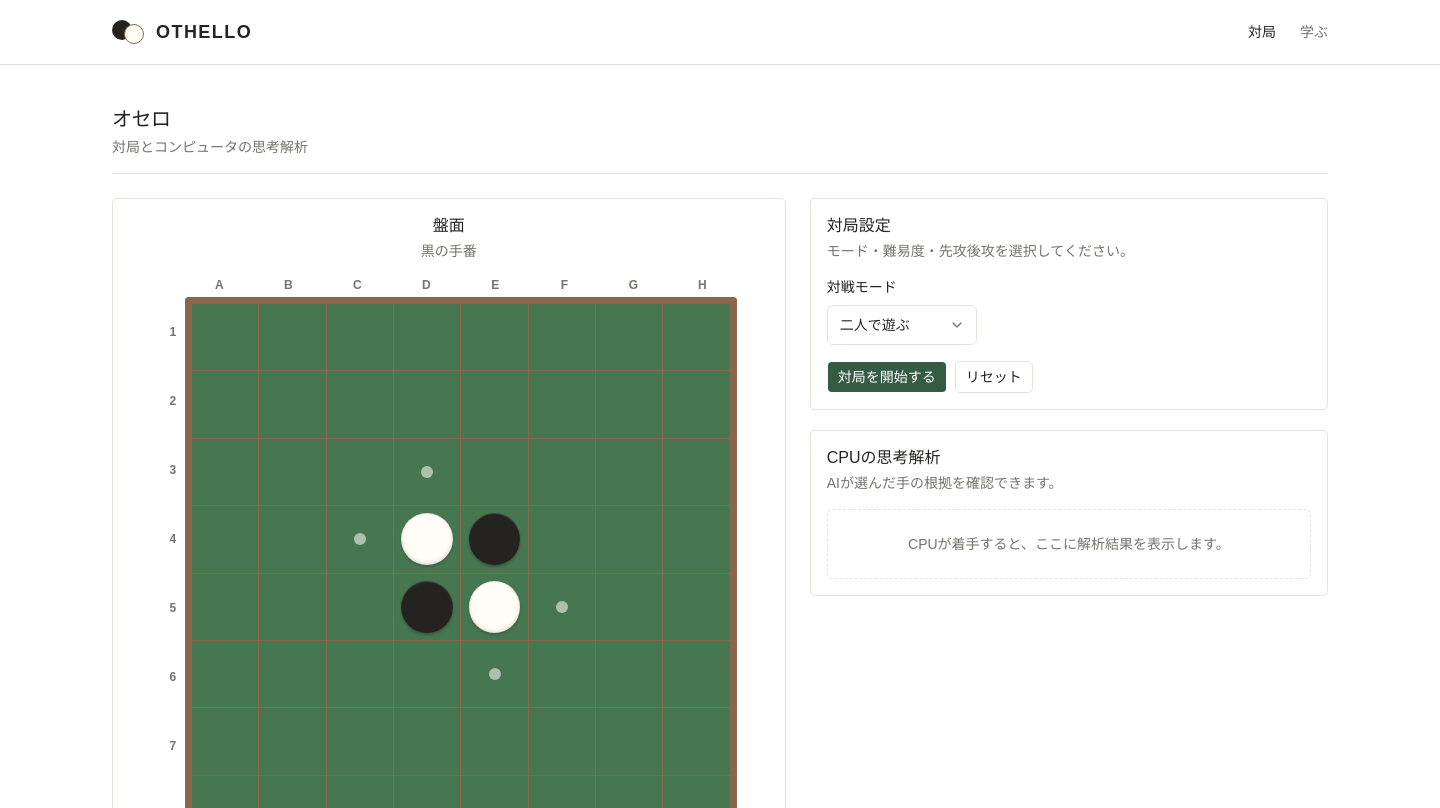
App › 409エラー発生時に細心の対局状態を取得する
Click the button named "3行4列": (427, 472) [394,439,460,505]
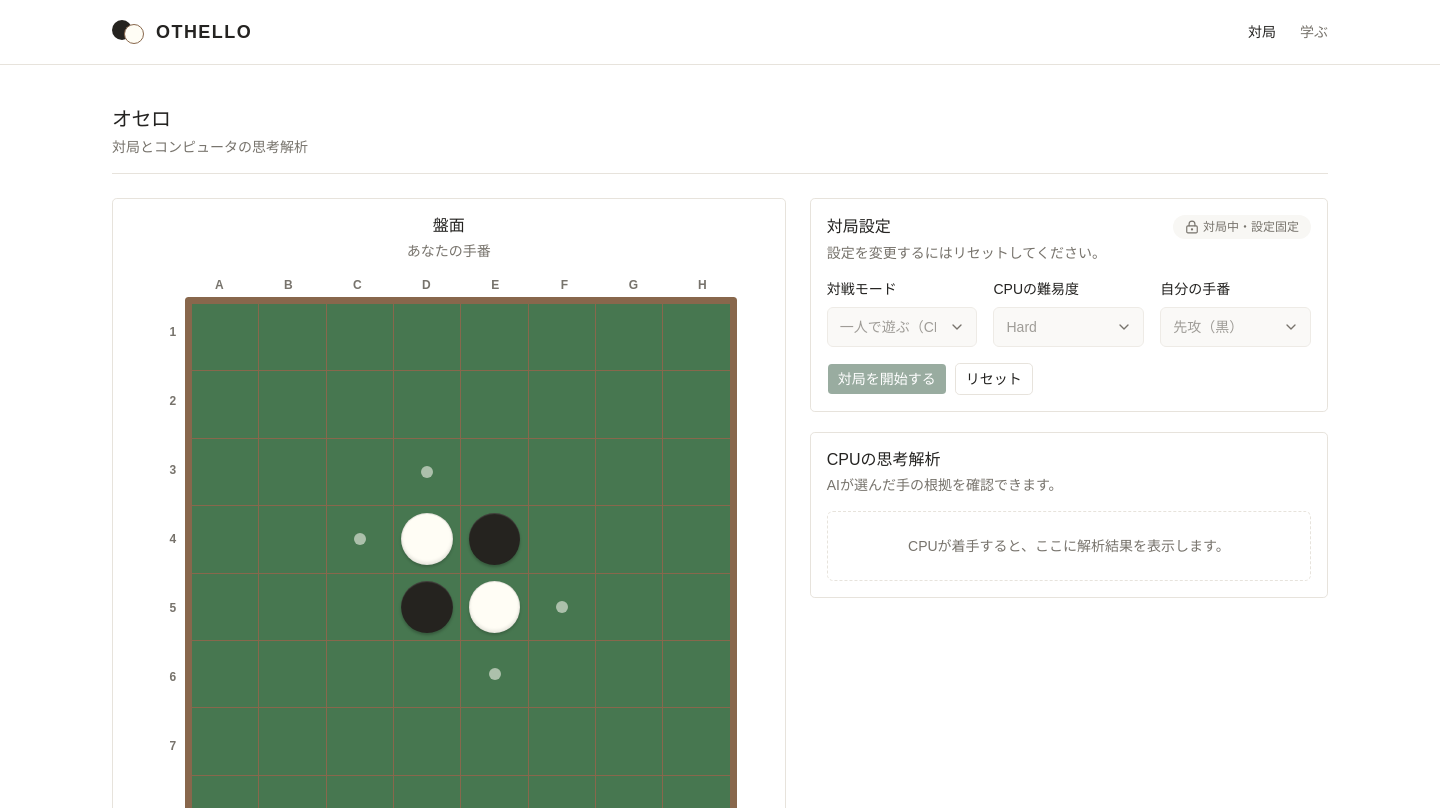
Expected: the dropdown labelled "対戦モード" is disabled, [827,307,978,347]
Expected: the dropdown labelled "CPUの難易度" shows "Hard", [994,307,1144,347]
